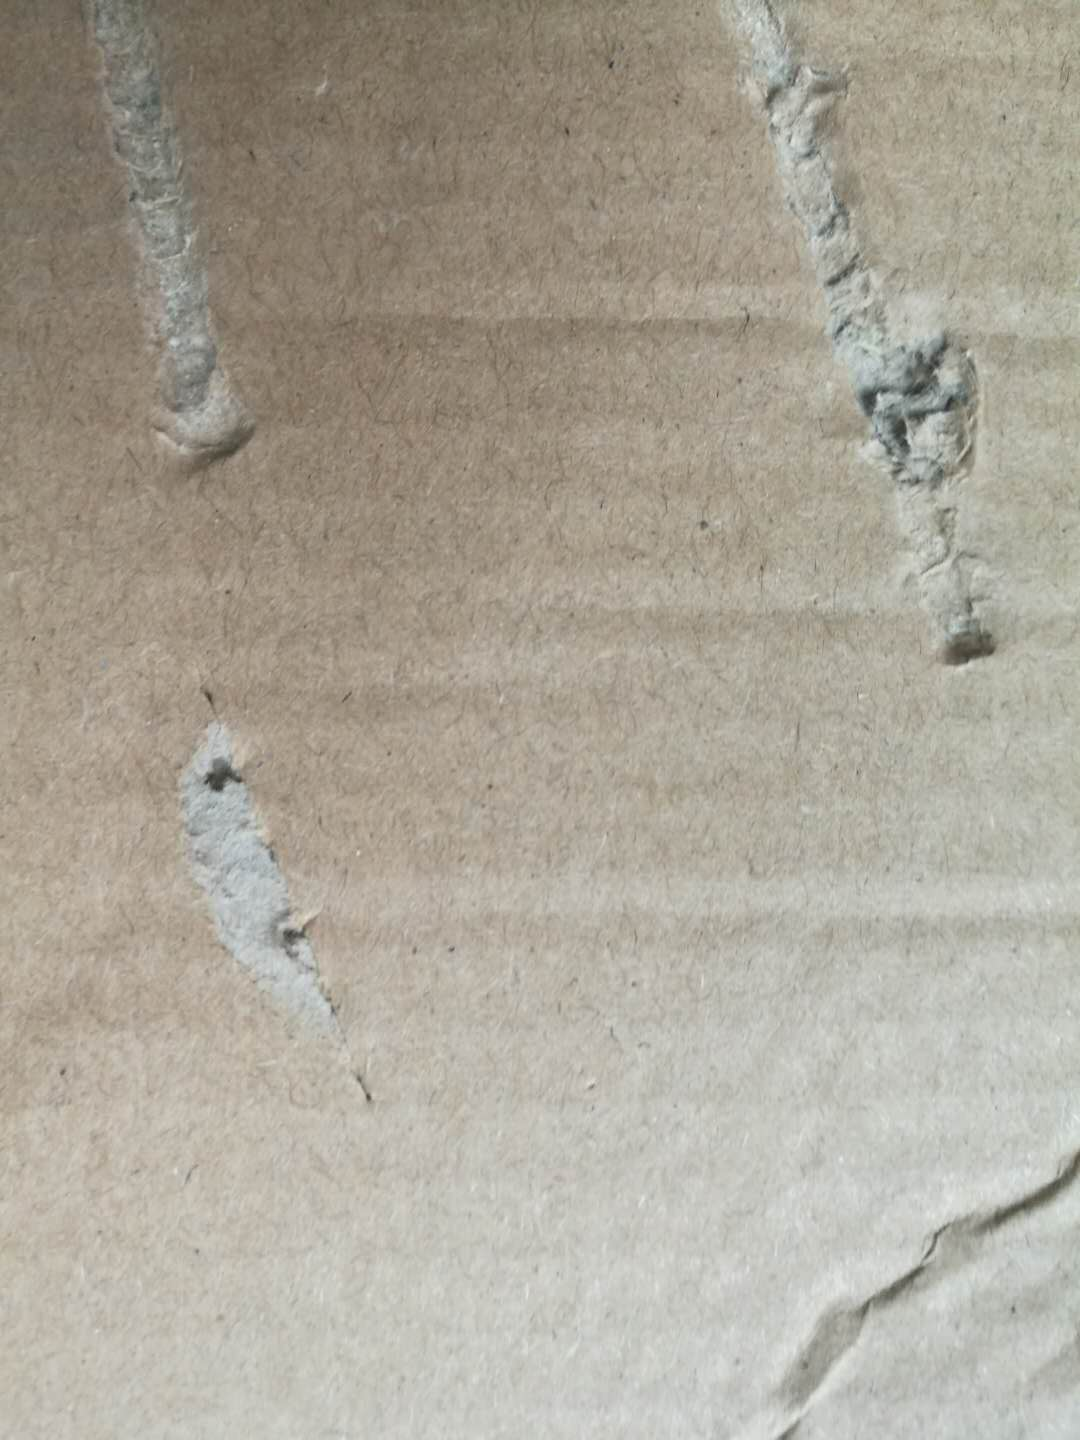defect: (675, 2, 1065, 719), (147, 653, 406, 1138), (680, 1128, 1080, 1437), (52, 2, 280, 513)
